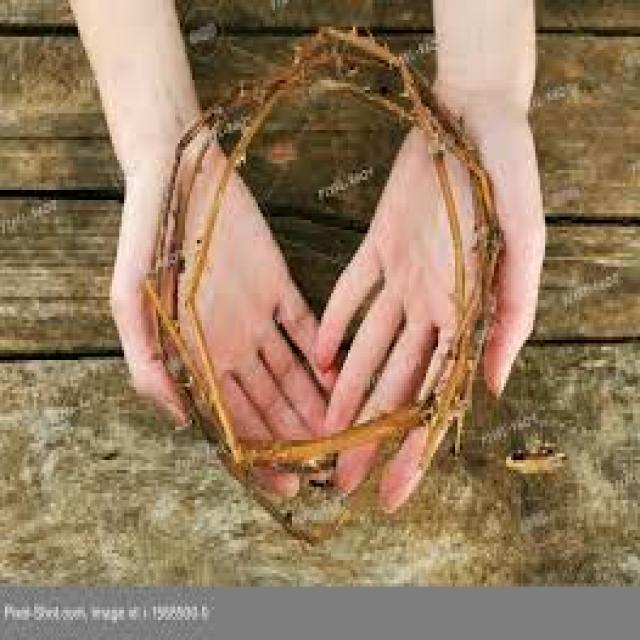crown: (133, 45, 516, 529)
